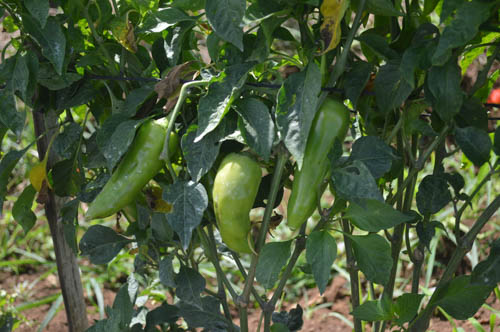ChiliPepper: (81, 115, 183, 229), (286, 95, 352, 235), (200, 130, 270, 256)
